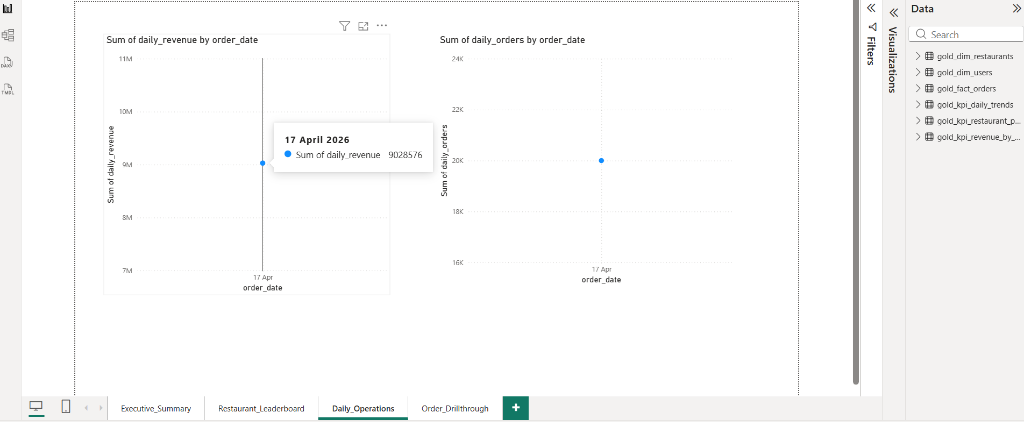

Layout of this report page (visuals, bound fields, positions):
{"tool":"powerbi","page":{"name":"Daily_Operations","canvas":[1280,720],"ordinal":2},"visuals":[{"type":"lineChart","fields":{"Category":["gold_kpi_daily_trends.order_date"],"Y":["Sum(gold_kpi_daily_trends.daily_revenue)"]},"box":[50,56,508.3,463.1],"z":0},{"type":"lineChart","fields":{"Category":["gold_kpi_daily_trends.order_date"],"Y":["Sum(gold_kpi_daily_trends.daily_orders)"]},"box":[640.5,56,531,448.8],"z":1}]}

Visuals, with their boxes on the page's 1280x720 design canvas (x1, y1, x2, y2). These are canvas units, not pixel positions in the 1024x422 screenshot, which may show the page scaled, cropped or inside an application window:
lineChart - gold_kpi_daily_trends.order_date x Sum(gold_kpi_daily_trends.daily_revenue): x1=50, y1=56, x2=558, y2=519
lineChart - gold_kpi_daily_trends.order_date x Sum(gold_kpi_daily_trends.daily_orders): x1=640, y1=56, x2=1172, y2=505
